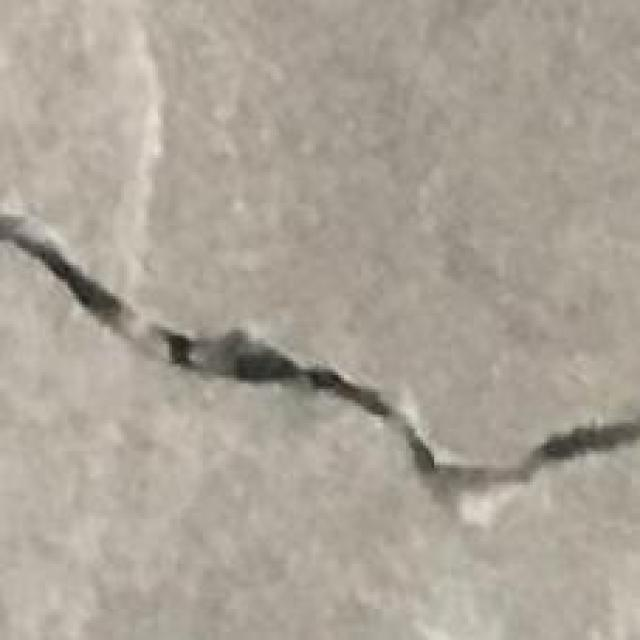Crack: (0, 211, 637, 488)
